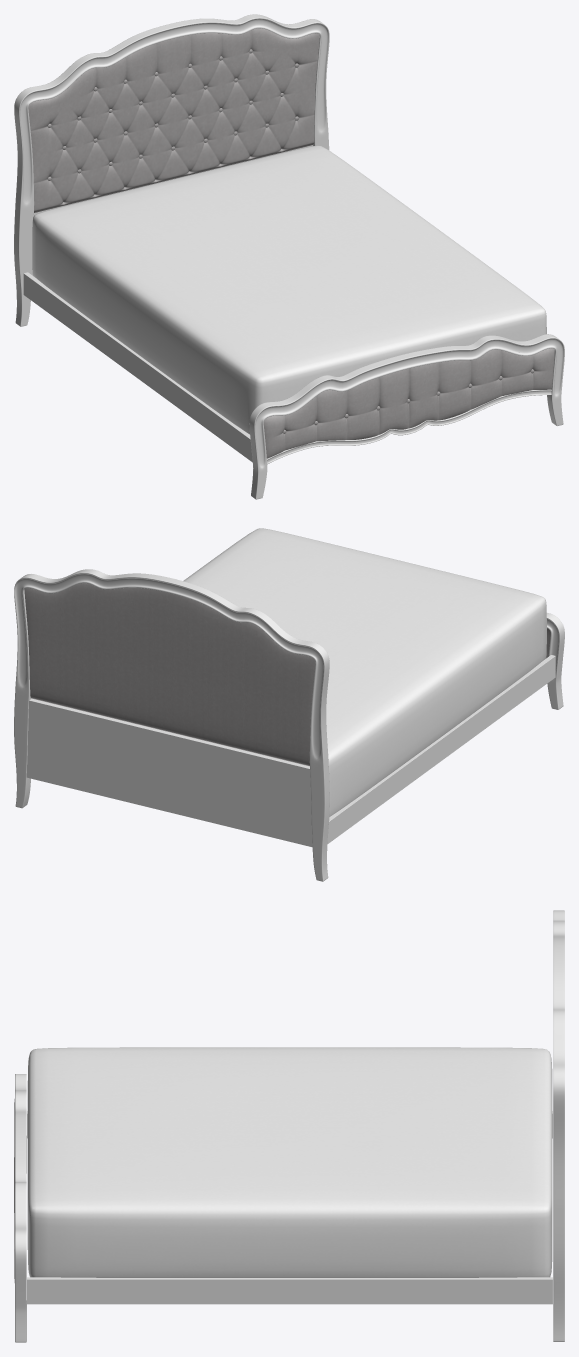
Rendered from bed_17.fbx.
The picture shows the model from 3 angles, top to bottom: view 1: azimuth 30°, elevation 25°; view 2: azimuth 150°, elevation 25°; view 3: azimuth 270°, elevation 25°; orthographic projection. The views are drawn at different scales.
Visible parts, largest first — view 1: bed_17.001; view 2: bed_17.001; view 3: bed_17.001.
Part boxes in pixels (bbox=[...]): bed_17.001: bbox=[14, 14, 564, 499]; bed_17.001: bbox=[14, 528, 564, 881]; bed_17.001: bbox=[14, 910, 564, 1342].
Size of the model in its own units: 161 by 130 by 216.
Materials: 1 (1 with a texture image).
